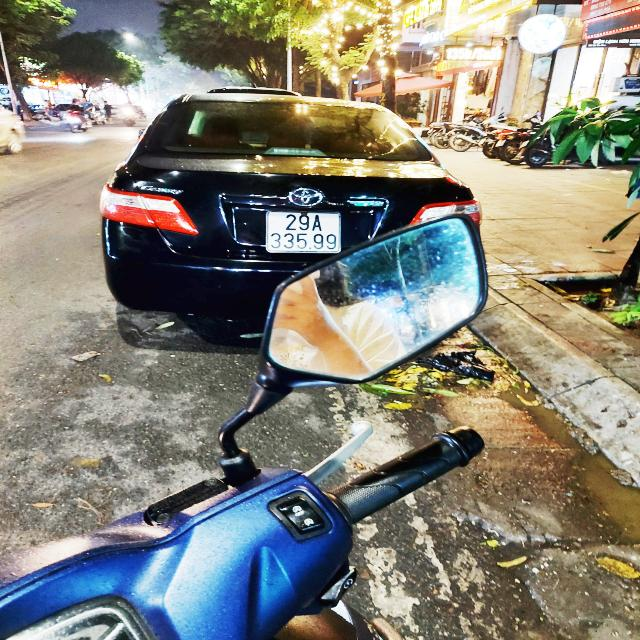license_plate: (265, 211, 342, 255)
